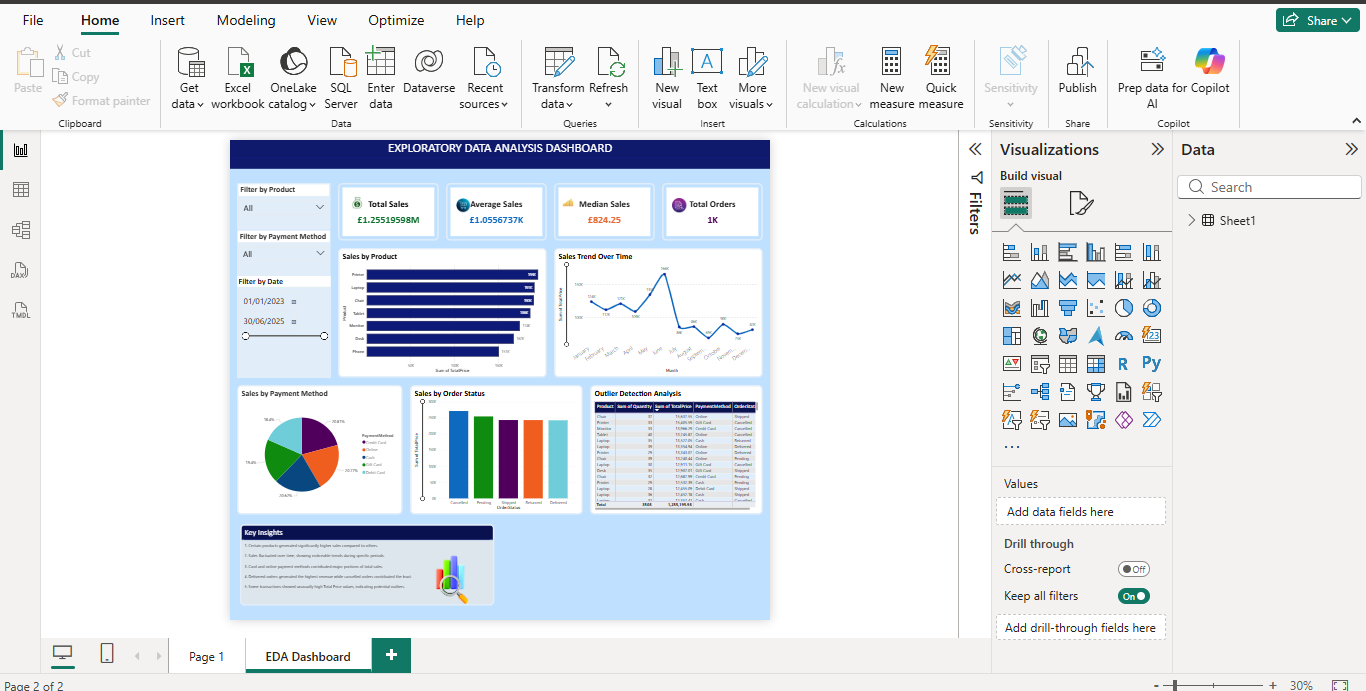

Layout of this report page (visuals, bound fields, positions):
{"tool":"powerbi","page":{"name":"EDA Dashboard","canvas":[1800,1600],"ordinal":1},"visuals":[{"type":"cardVisual","fields":{"Data":["Sheet1.Total Sales"]},"box":[360,144,336,192],"z":0},{"type":"cardVisual","fields":{"Data":["Sheet1.Average Sales"]},"box":[720,144,336,192],"z":1000},{"type":"cardVisual","fields":{"Data":["Sheet1.Total Orders"]},"box":[1440,144,336,192],"z":2000},{"type":"cardVisual","fields":{"Data":["Sheet1.Median Sales"]},"box":[1080,144,336,192],"z":3000},{"type":"clusteredBarChart","title":"Sales by Product","fields":{"Category":["Sheet1.Product"],"Y":["Sum(Sheet1.TotalPrice)"]},"box":[360,360,696,432],"z":4000},{"type":"lineChart","title":"Sales Trend Over Time","fields":{"Category":["Sheet1.Date.Variation.Date Hierarchy.Month"],"Y":["Sum(Sheet1.TotalPrice)"]},"box":[1080,360,696,432],"z":5000},{"type":"pieChart","title":"Sales by Payment Method","fields":{"Category":["Sheet1.PaymentMethod"],"Y":["Sum(Sheet1.TotalPrice)"]},"box":[24,816,552,432],"z":6000},{"type":"clusteredColumnChart","title":"Sales by Order Status","fields":{"Category":["Sheet1.OrderStatus"],"Y":["Sum(Sheet1.TotalPrice)"]},"box":[600,816,576,432],"z":7000},{"type":"tableEx","title":"Outlier Detection Analysis","fields":{"Values":["Sheet1.Product","Sum(Sheet1.Quantity)","Sum(Sheet1.TotalPrice)","Sheet1.PaymentMethod","Sheet1.OrderStatus"]},"box":[1200,816,576,432],"z":8000},{"type":"slicer","title":"Filter by Product","fields":{"Values":["Sheet1.Product"]},"box":[24,144,312,155.5],"z":9000,"group":"g1"},{"type":"textbox","title":"Key Insights","box":[32,1280,848,272],"z":9000},{"type":"textbox","title":"    EXPLORATORY   DATA  ANALYSIS  DASHBOARD","box":[0,0,1800,96],"z":10000},{"type":"slicer","title":"Filter by Payment Method","fields":{"Values":["Sheet1.PaymentMethod"]},"box":[24,299.5,312,155.5],"z":10000,"group":"g1"},{"type":"group","id":"g1","title":"Group 1","box":[24,144,312,648],"z":11000},{"type":"slicer","title":"Filter by Date","fields":{"Values":["Sheet1.Date"]},"box":[24,455,312,337],"z":11000,"group":"g1"},{"type":"image","box":[608,1376,272,176],"z":12000},{"type":"image","box":[400,176,48,64],"z":13000},{"type":"image","box":[752,192,48,48],"z":14000},{"type":"image","box":[1104,176,48,64],"z":15000},{"type":"image","box":[1472,192,48,48],"z":15001}]}

Visuals, with their boxes on the page's 1800x1600 design canvas (x1, y1, x2, y2). These are canvas units, not pixel positions in the 1366x691 screenshot, which may show the page scaled, cropped or inside an application window:
cardVisual - Sheet1.Total Sales: {"x1": 360, "y1": 144, "x2": 696, "y2": 336}
cardVisual - Sheet1.Average Sales: {"x1": 720, "y1": 144, "x2": 1056, "y2": 336}
cardVisual - Sheet1.Total Orders: {"x1": 1440, "y1": 144, "x2": 1776, "y2": 336}
cardVisual - Sheet1.Median Sales: {"x1": 1080, "y1": 144, "x2": 1416, "y2": 336}
"Sales by Product" clusteredBarChart: {"x1": 360, "y1": 360, "x2": 1056, "y2": 792}
"Sales Trend Over Time" lineChart: {"x1": 1080, "y1": 360, "x2": 1776, "y2": 792}
"Sales by Payment Method" pieChart: {"x1": 24, "y1": 816, "x2": 576, "y2": 1248}
"Sales by Order Status" clusteredColumnChart: {"x1": 600, "y1": 816, "x2": 1176, "y2": 1248}
"Outlier Detection Analysis" tableEx: {"x1": 1200, "y1": 816, "x2": 1776, "y2": 1248}
"Filter by Product" slicer: {"x1": 24, "y1": 144, "x2": 336, "y2": 300}
"Key Insights" textbox: {"x1": 32, "y1": 1280, "x2": 880, "y2": 1552}
"    EXPLORATORY   DATA  ANALYSIS  DASHBOARD" textbox: {"x1": 0, "y1": 0, "x2": 1800, "y2": 96}
"Filter by Payment Method" slicer: {"x1": 24, "y1": 300, "x2": 336, "y2": 455}
"Group 1" group: {"x1": 24, "y1": 144, "x2": 336, "y2": 792}
"Filter by Date" slicer: {"x1": 24, "y1": 455, "x2": 336, "y2": 792}
image: {"x1": 608, "y1": 1376, "x2": 880, "y2": 1552}
image: {"x1": 400, "y1": 176, "x2": 448, "y2": 240}
image: {"x1": 752, "y1": 192, "x2": 800, "y2": 240}
image: {"x1": 1104, "y1": 176, "x2": 1152, "y2": 240}
image: {"x1": 1472, "y1": 192, "x2": 1520, "y2": 240}
